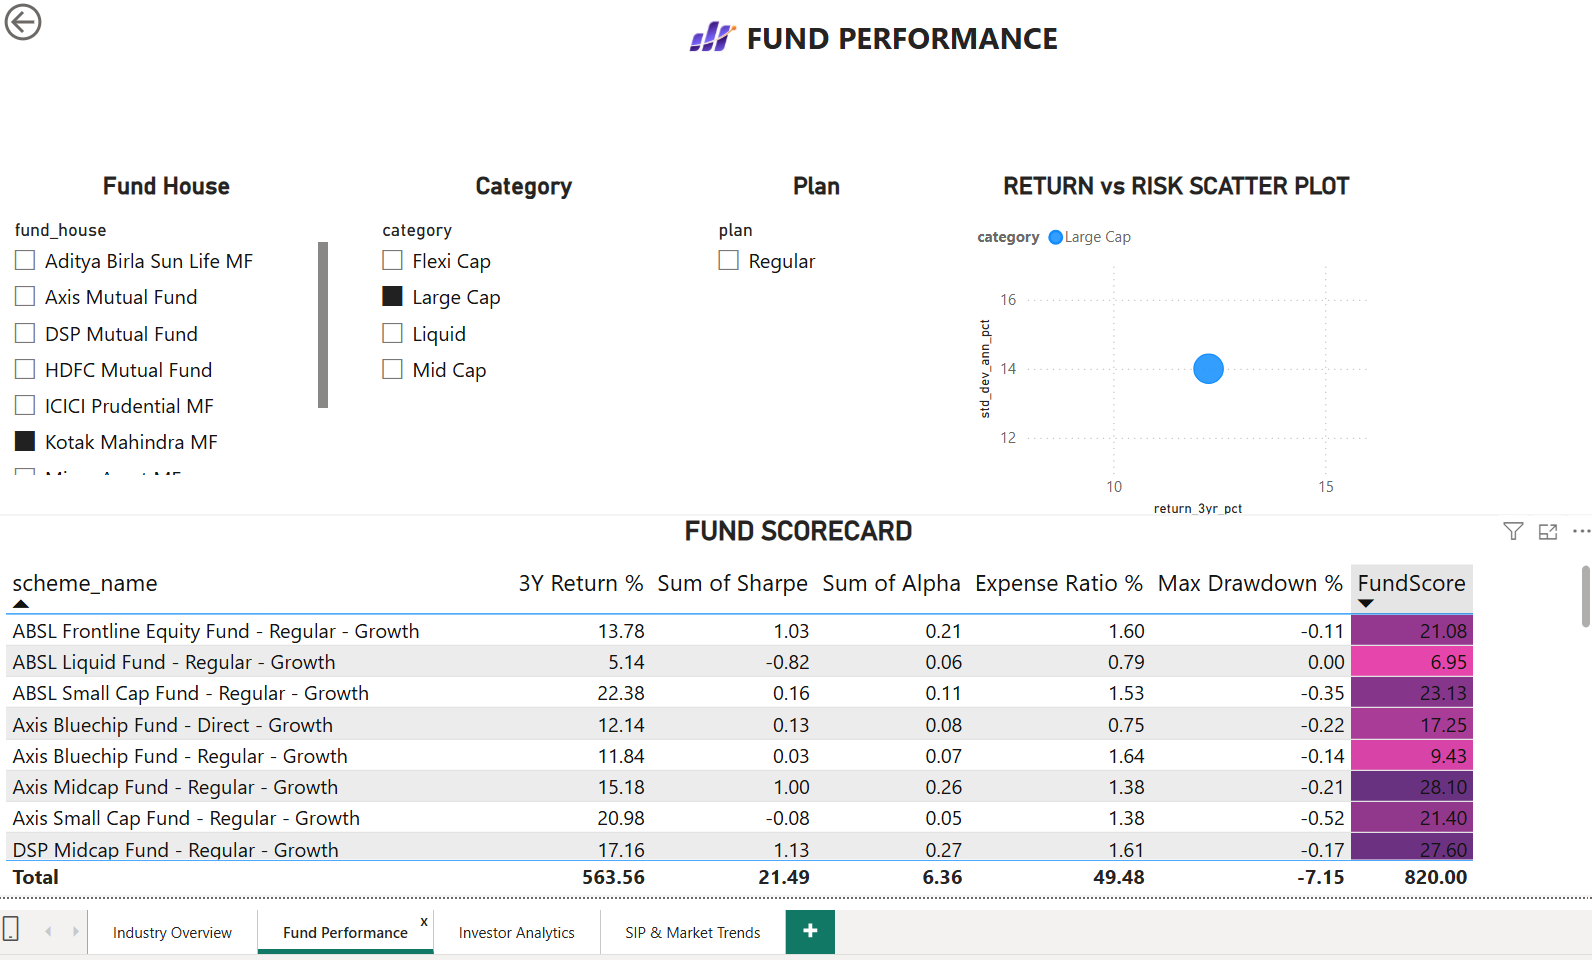

The page's visual inventory and layout, read from the dashboard file:
{"tool":"powerbi","page":{"name":"Fund Performance","canvas":[1280,720],"ordinal":1},"visuals":[{"type":"scatterChart","title":"RETURN vs RISK SCATTER PLOT ","fields":{"X":["Sum(scheme_performance.return_3yr_pct)"],"Y":["Sum(scheme_performance.std_dev_ann_pct)"],"Size":["Sum(scheme_performance.aum_crore)"],"Series":["scheme_performance.category"]},"box":[778.3,140,328.4,280.1],"z":0},{"type":"actionButton","box":[0,0,100,40],"z":1000},{"type":"tableEx","title":"FUND SCORECARD","fields":{"Values":["fund_scorecard.scheme_name","Sum(fund_scorecard.return_3yr_pct)","Sum(fund_scorecard.Sharpe)","Sum(fund_scorecard.Alpha)","Sum(fund_scorecard.expense_ratio_pct)","Sum(fund_scorecard.Max_Drawdown)","Sum(fund_scorecard.FundScore)"]},"box":[0,413.9,1280.3,306.1],"z":2000},{"type":"slicer","title":"Fund House","fields":{"Values":["scheme_performance.fund_house"]},"box":[0,140,268.9,247.9],"z":3000},{"type":"slicer","title":"Category","fields":{"Values":["scheme_performance.category"]},"box":[293.7,140,252.8,247.9],"z":4000},{"type":"slicer","title":"Plan","fields":{"Values":["scheme_performance.plan"]},"box":[562.7,140,183.4,247.9],"z":5000},{"type":"textbox","box":[471,11.2,497,80.6],"z":5009},{"type":"image","box":[546.6,0,49.6,64.4],"z":5010}]}

Visuals, with their boxes on the page's 1280x720 design canvas (x1, y1, x2, y2). These are canvas units, not pixel positions in the 1592x960 screenshot, which may show the page scaled, cropped or inside an application window:
"RETURN vs RISK SCATTER PLOT " scatterChart: bbox=(778, 140, 1107, 420)
actionButton: bbox=(0, 0, 100, 40)
"FUND SCORECARD" tableEx: bbox=(0, 414, 1280, 720)
"Fund House" slicer: bbox=(0, 140, 269, 388)
"Category" slicer: bbox=(294, 140, 546, 388)
"Plan" slicer: bbox=(563, 140, 746, 388)
textbox: bbox=(471, 11, 968, 92)
image: bbox=(547, 0, 596, 64)
